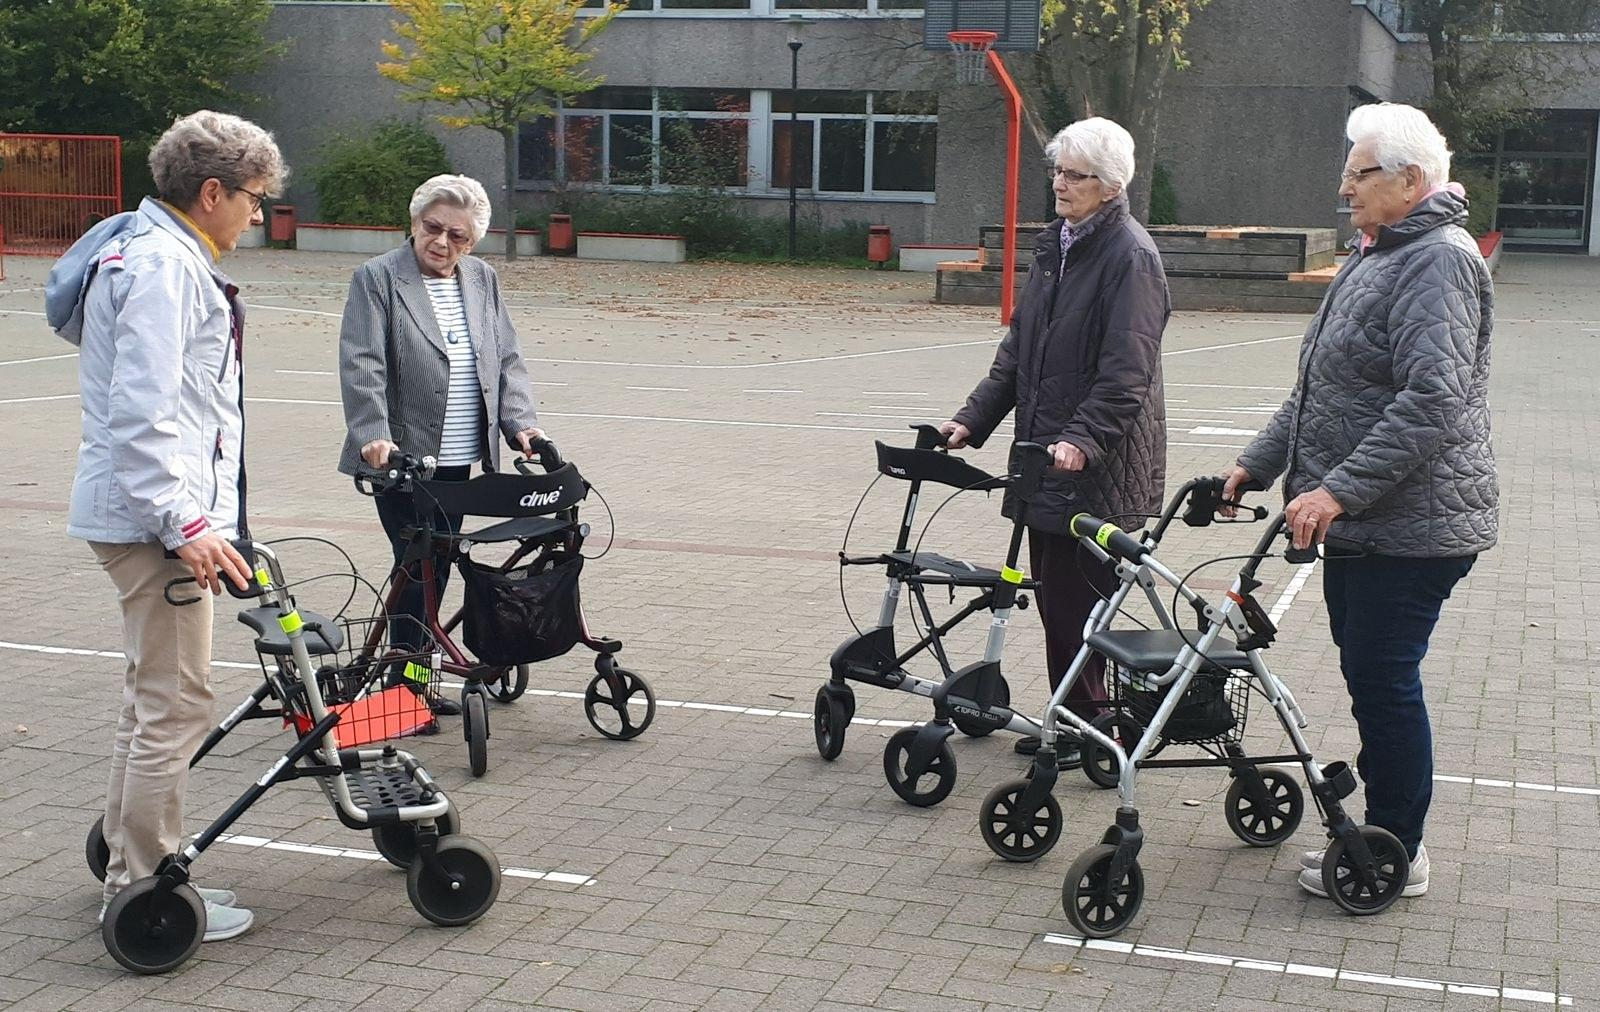walking_frame: (981, 101, 1501, 940), (43, 110, 501, 976), (815, 118, 1172, 809), (311, 174, 655, 778)
